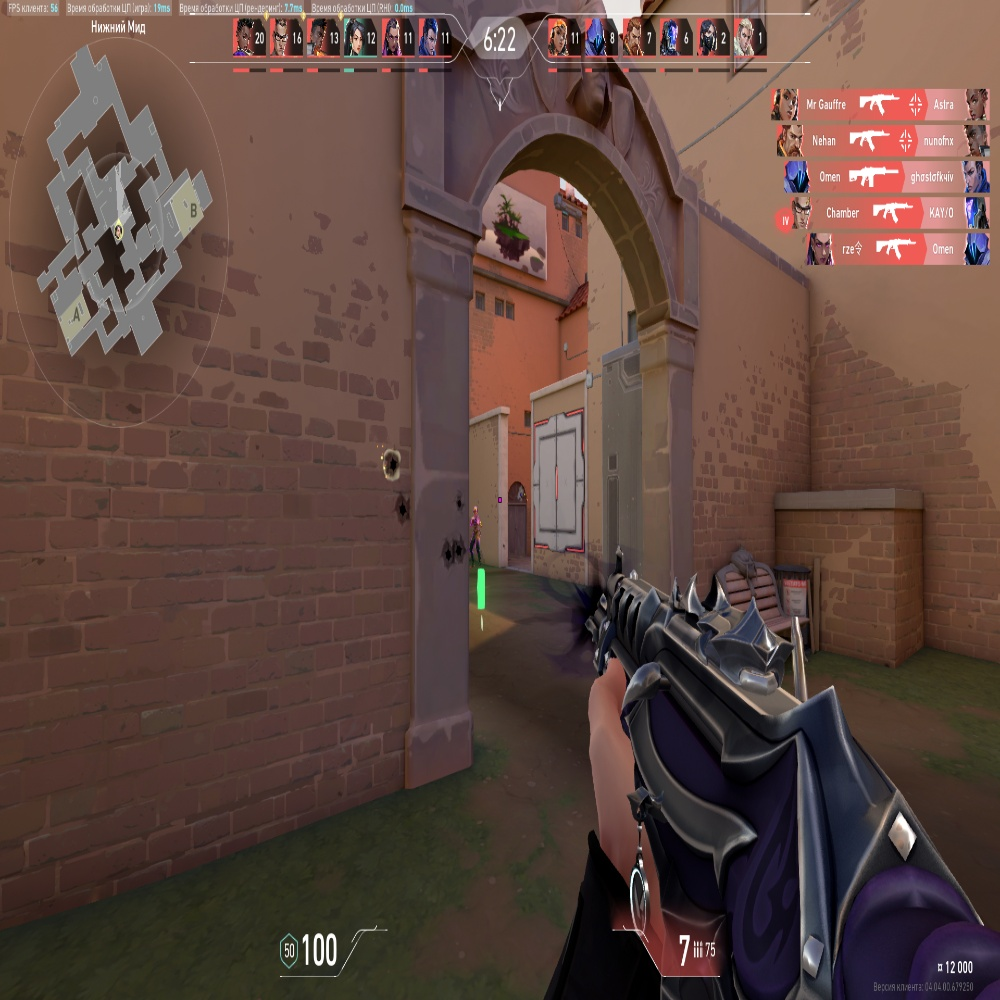body: (470, 517, 480, 539)
head: (473, 507, 478, 516)
